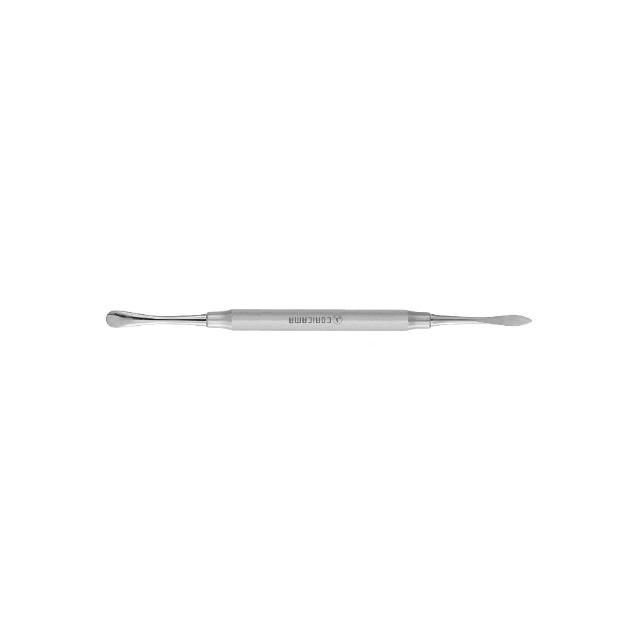elevador: (102, 304, 534, 336)
